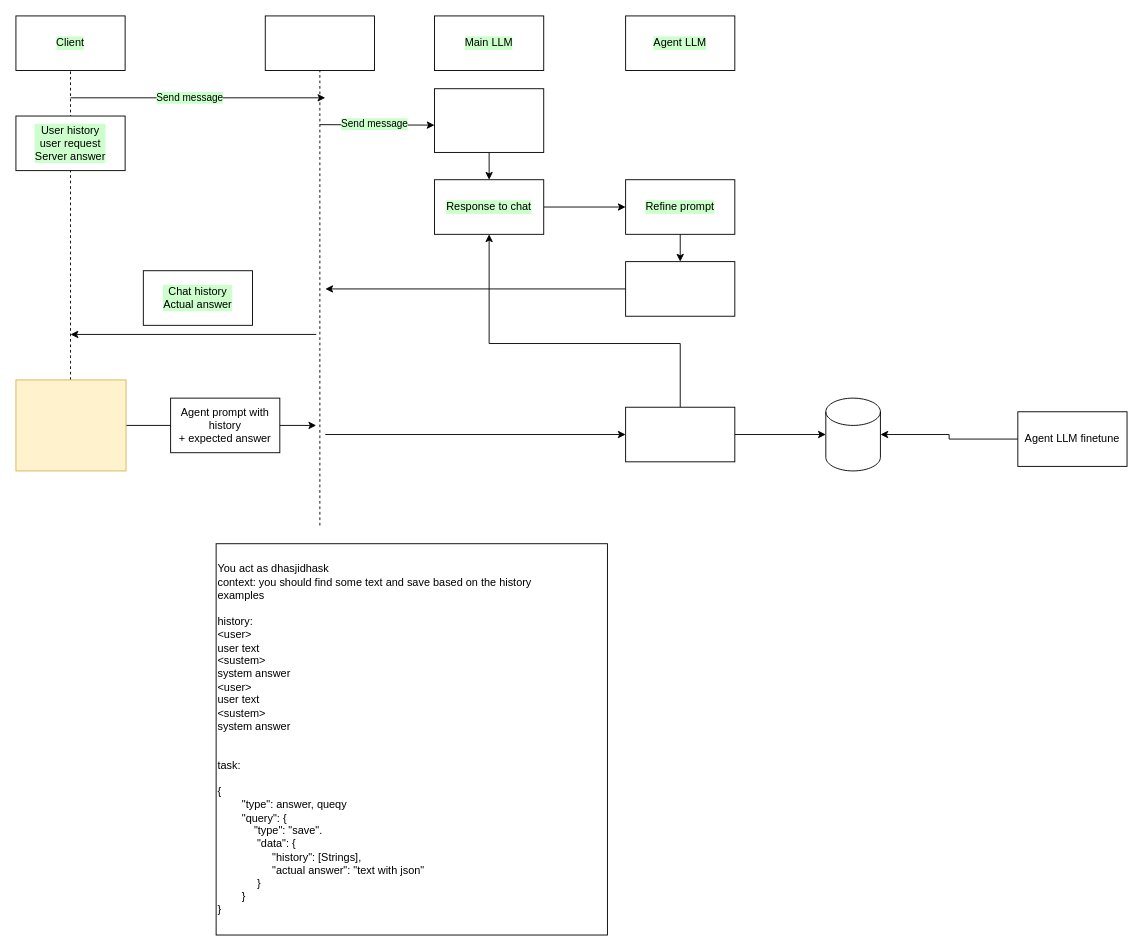
This 1143x951 diagram has some shape labels left out. The box of each missing label's shape, as (x1, y1, x2, y2) in pixels:
Generate answer based on history: (625, 261, 735, 316)
Main LLM History user request Main llmm answer agent answers global anser: (434, 88, 544, 152)
Make action based on refined response: (625, 406, 735, 462)
Server: (264, 15, 374, 71)
Show dialog Agent prompt with history + answer + expected answer +submit +cancel: (15, 379, 126, 471)
